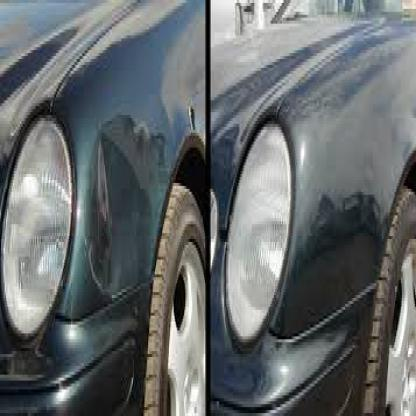dent: (77, 108, 160, 302)
